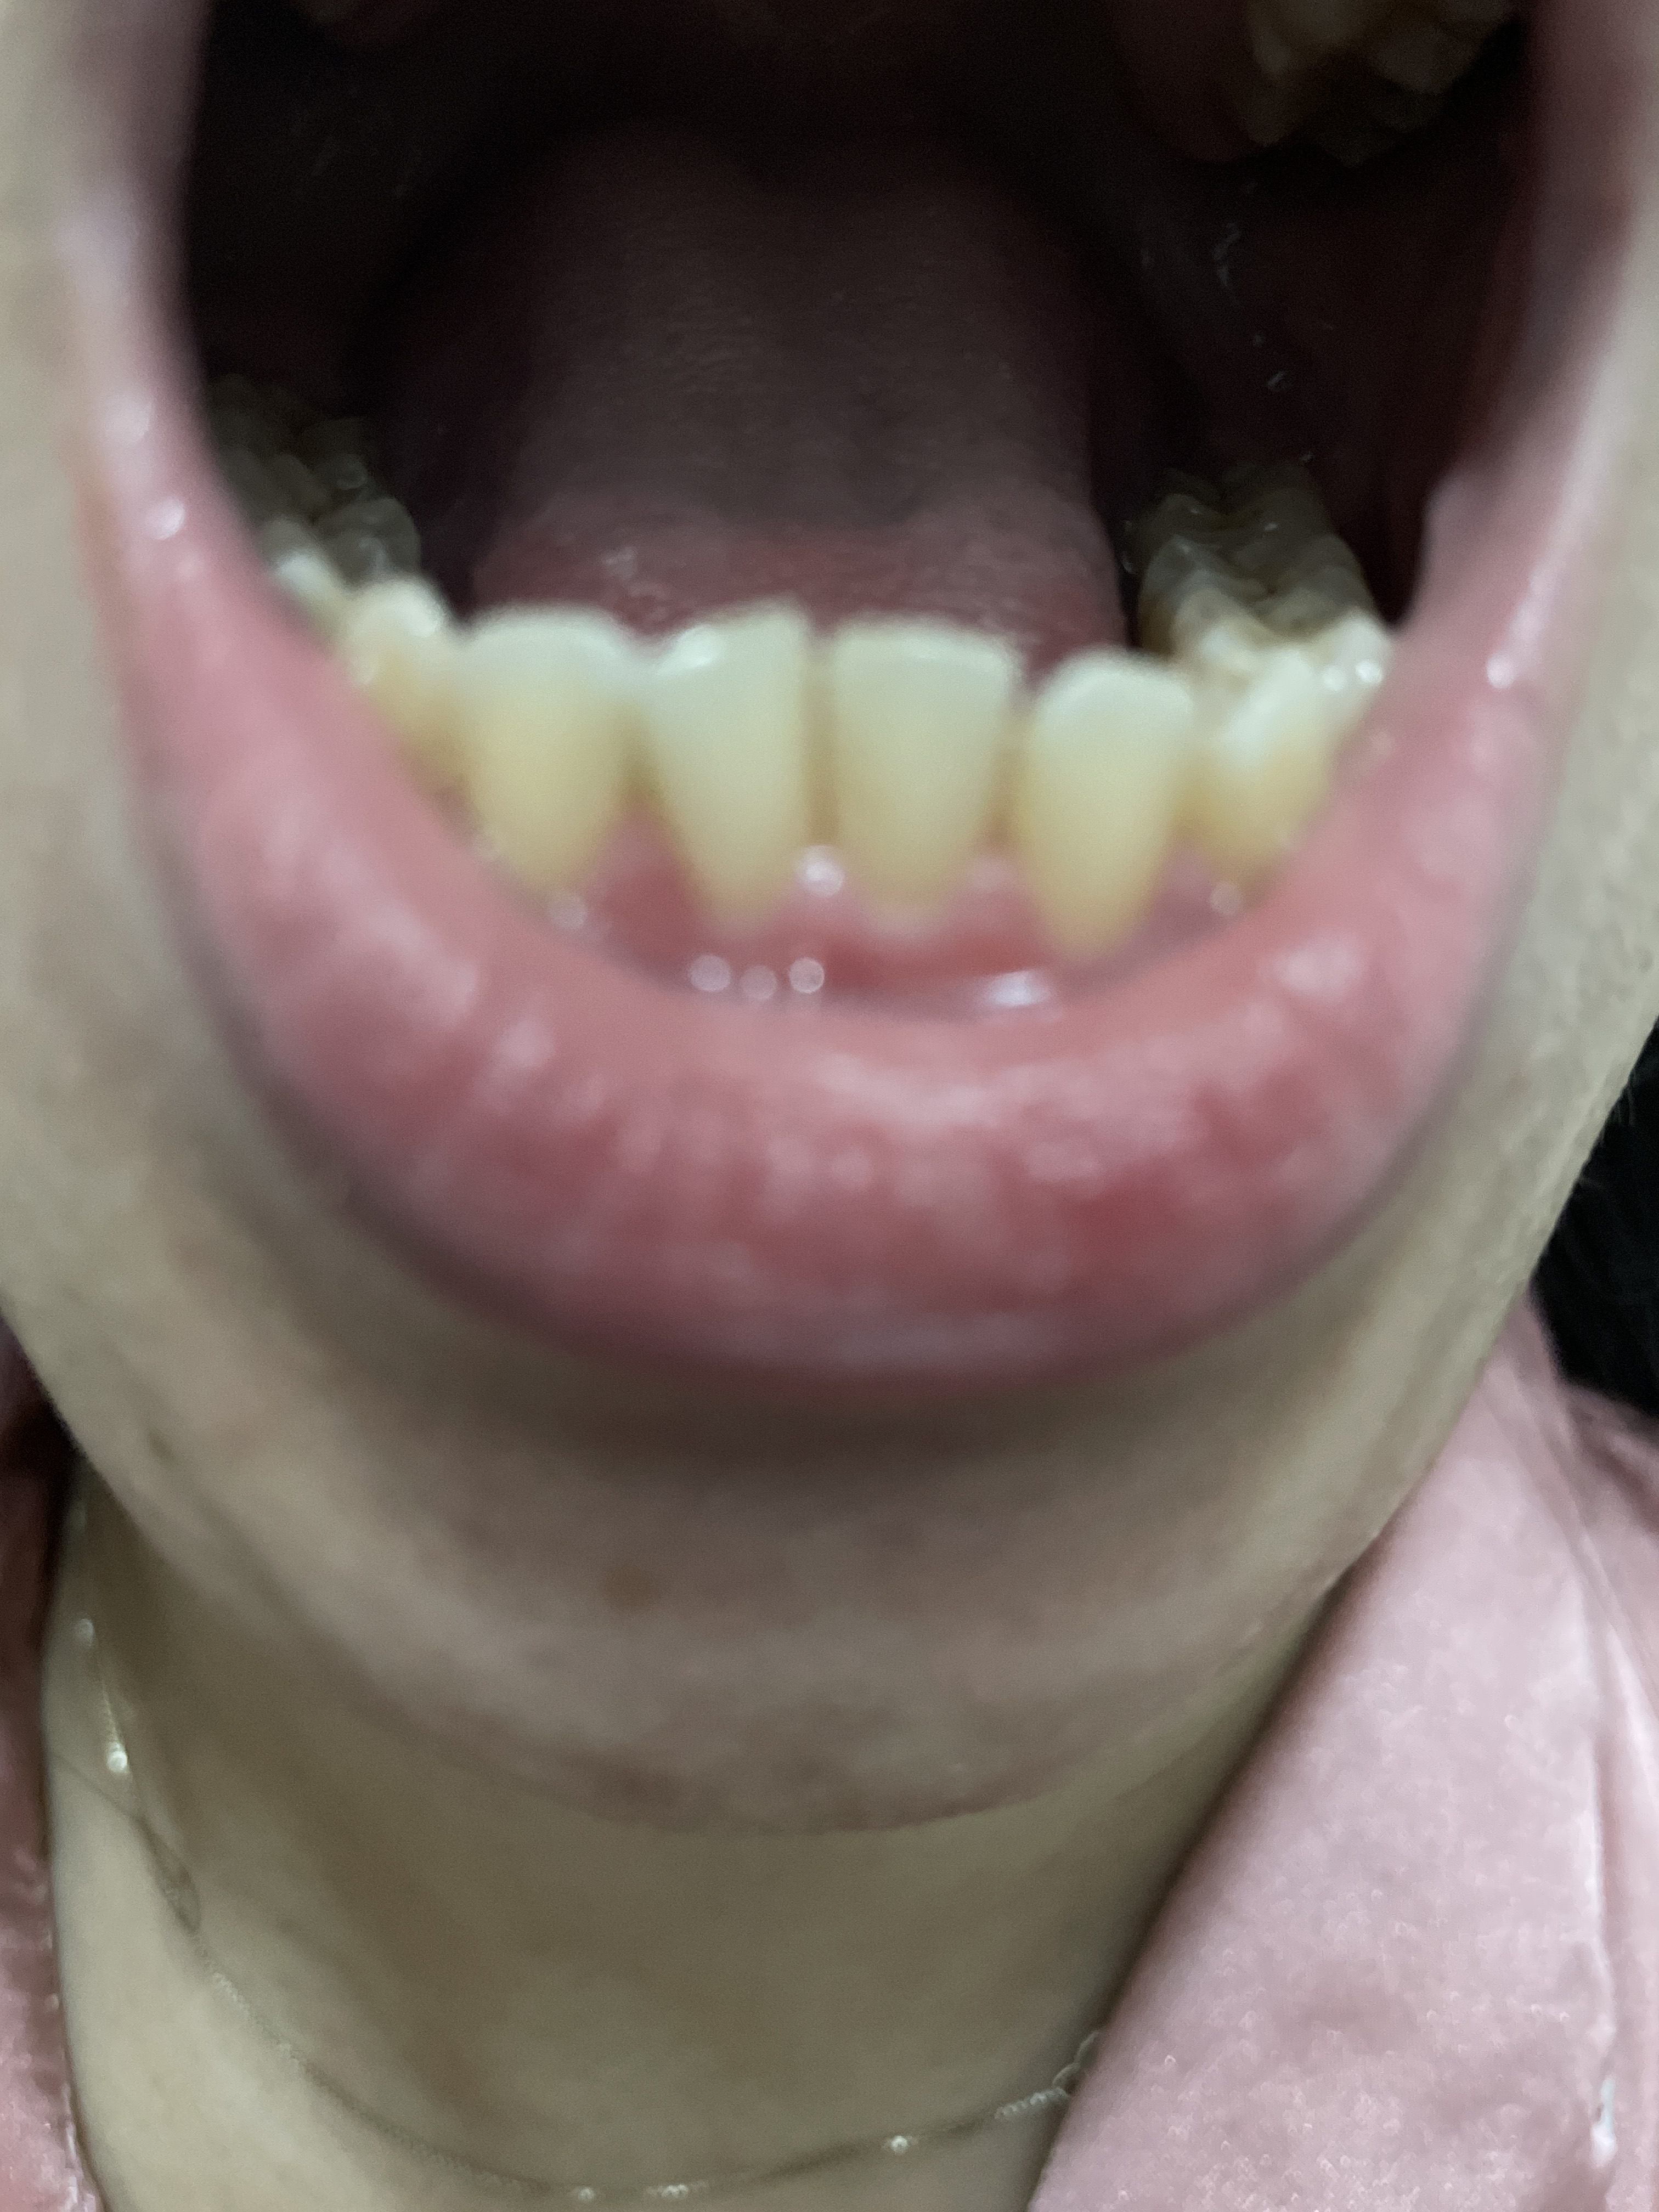teeth: (1028, 672, 1195, 937), (836, 631, 1007, 883), (666, 625, 800, 906), (483, 634, 619, 874), (1201, 662, 1328, 887)
